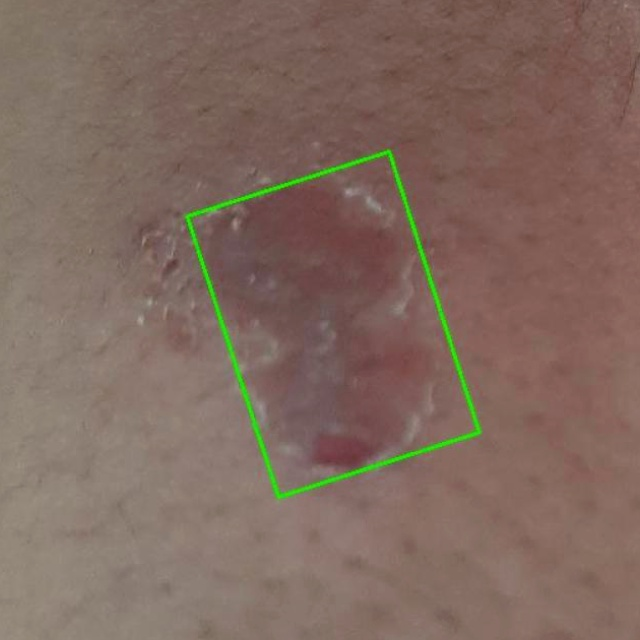Tinea Corporis: (187, 150, 480, 497)
